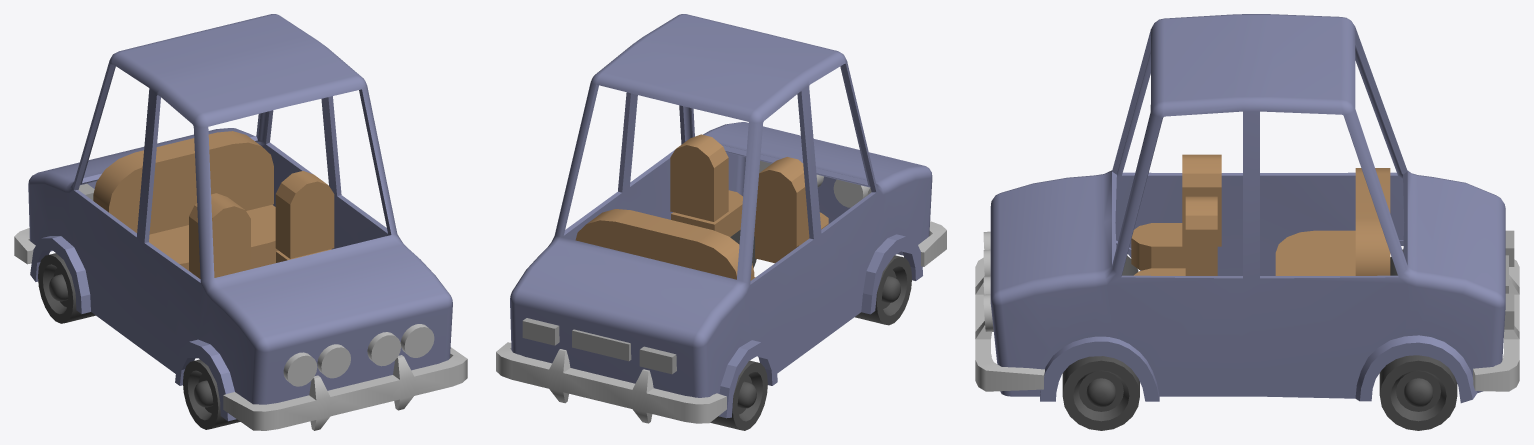
Rendered from Car_Mesh.fbx.
3 views of the same model, side by side, from view 1: azimuth 30°, elevation 25°; view 2: azimuth 150°, elevation 25°; view 3: azimuth 270°, elevation 25° (orthographic). The views are drawn at different scales.
Parts seen in each view (by area): view 1: Car_Mesh; view 2: Car_Mesh; view 3: Car_Mesh.
Part boxes in pixels (<box>): Car_Mesh: <box>14,14,467,430</box>; Car_Mesh: <box>496,14,946,430</box>; Car_Mesh: <box>975,14,1519,430</box>.
Size of the model in its own units: 3.42 by 4.28 by 6.65.
